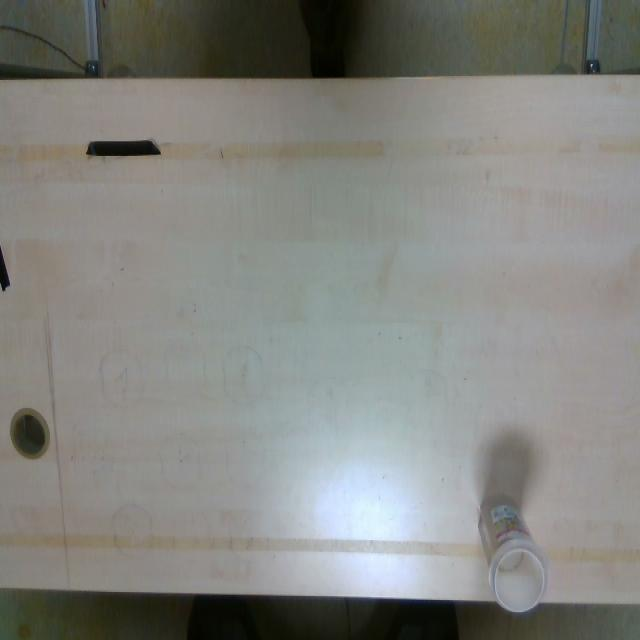cups: (478, 494, 547, 614)
